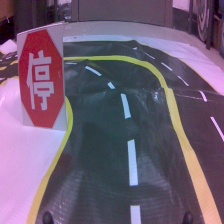stop: (16, 23, 70, 132)
